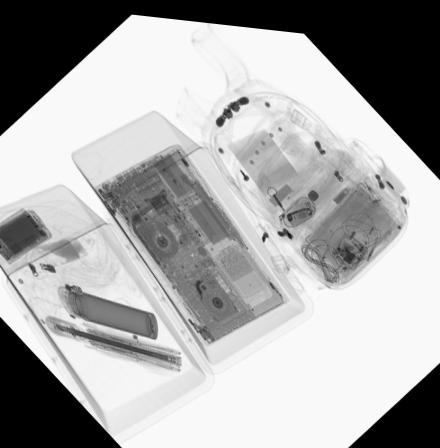Powerbank: (0, 208, 48, 263)
